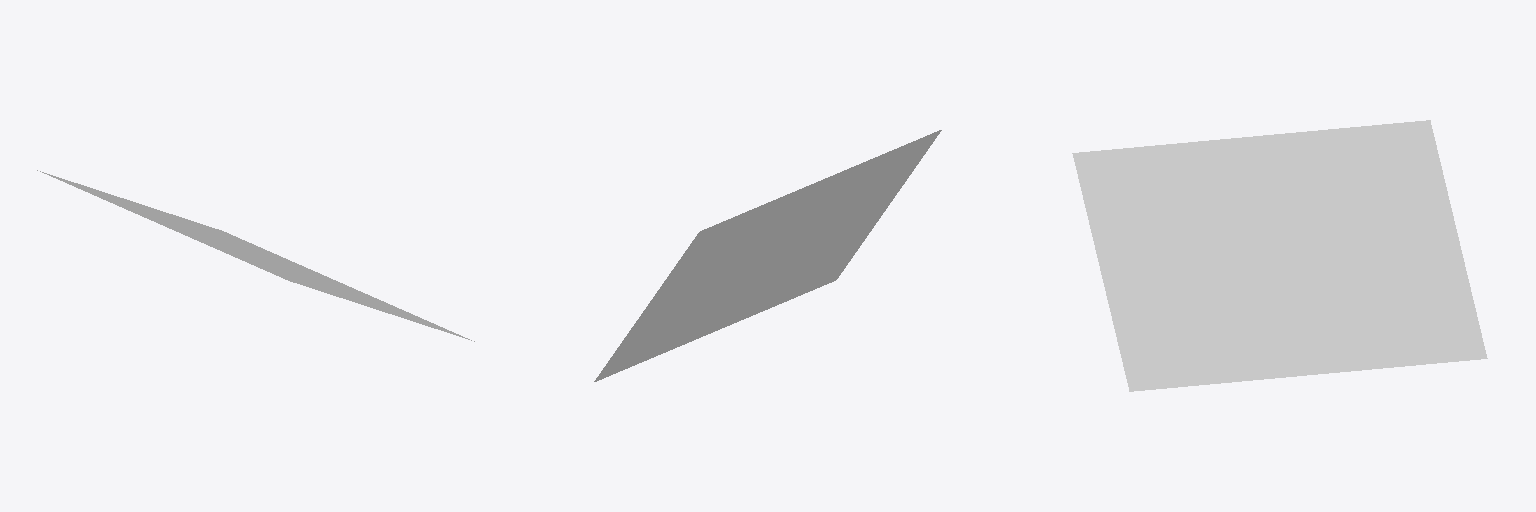
File: track 8_ice.obj
3 views of the same model, side by side, from view 1: azimuth 30°, elevation 25°; view 2: azimuth 150°, elevation 25°; view 3: azimuth 270°, elevation 25° (orthographic).
Visible parts, largest first — view 1: Plane.003; view 2: Plane.003; view 3: Plane.003.
Boxes of the visible parts, <box> form: Plane.003: <box>37,170,474,341</box>; Plane.003: <box>594,130,941,381</box>; Plane.003: <box>1072,120,1487,391</box>.
Bounding box in the file's own units: 181 × 81.91 × 226.